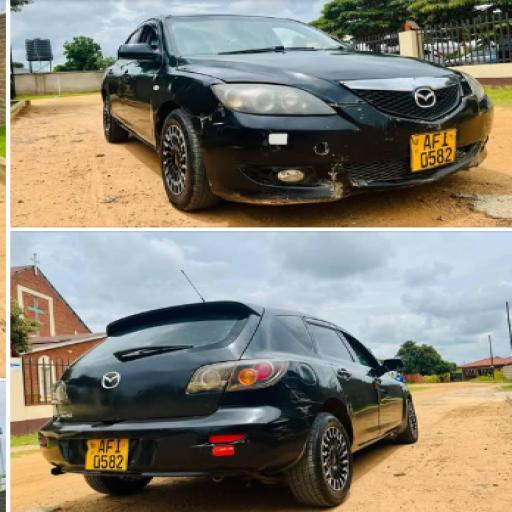number-plates: (411, 130, 459, 168), (87, 440, 130, 474)
